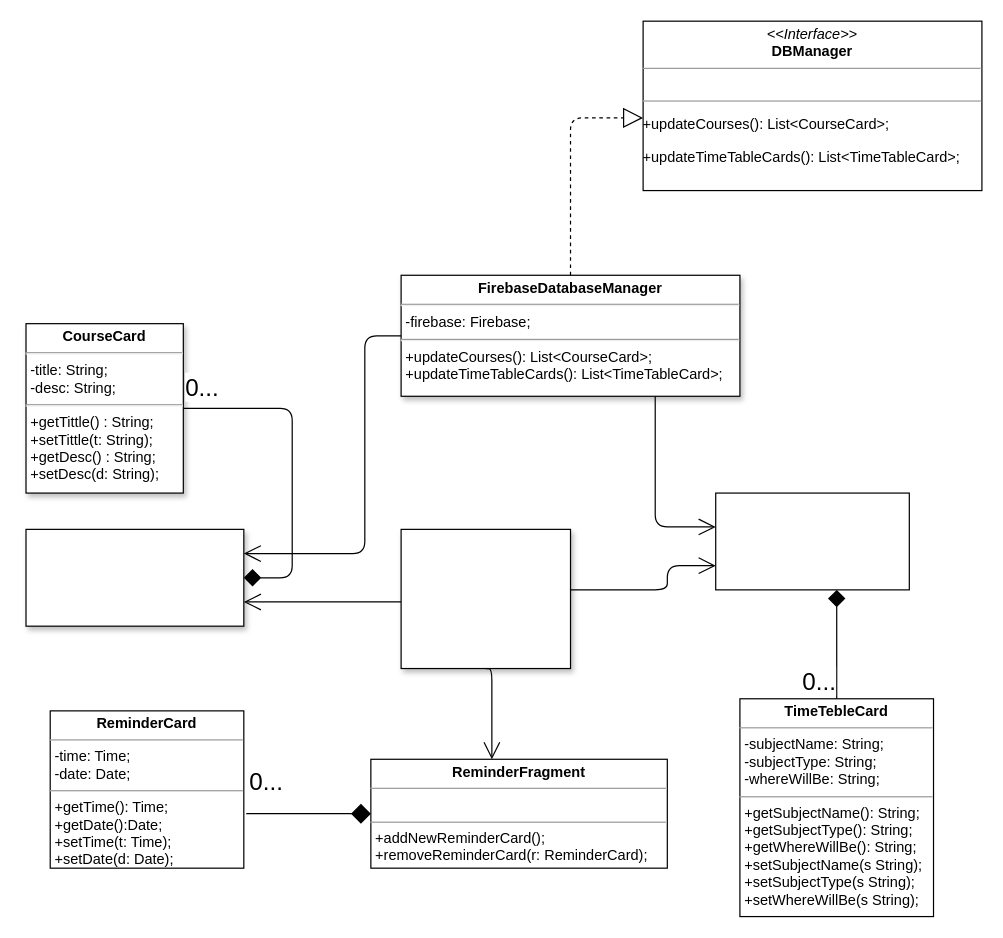
Image size: 1003x938. Some labels were removed from this diagram. The centre of each missing label's shape, as x and y in pixels:
CourseFragment -spinner: Spinner; +spinnerItemSelected();: the point at 135,579
MainActivity +changeFragment(); +initBasicDesign();: the point at 486,600
TimeTableFragment -spinner: Spinner; +spinnerItemSelected();: the point at 812,541
